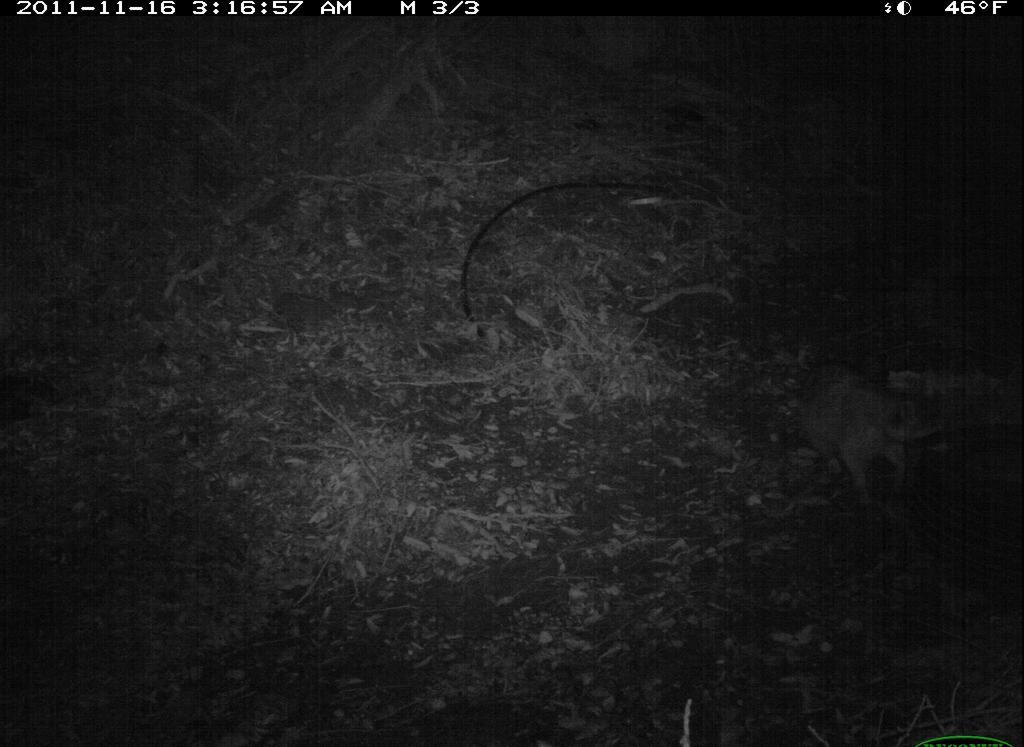raccoon: (786, 350, 952, 505)
